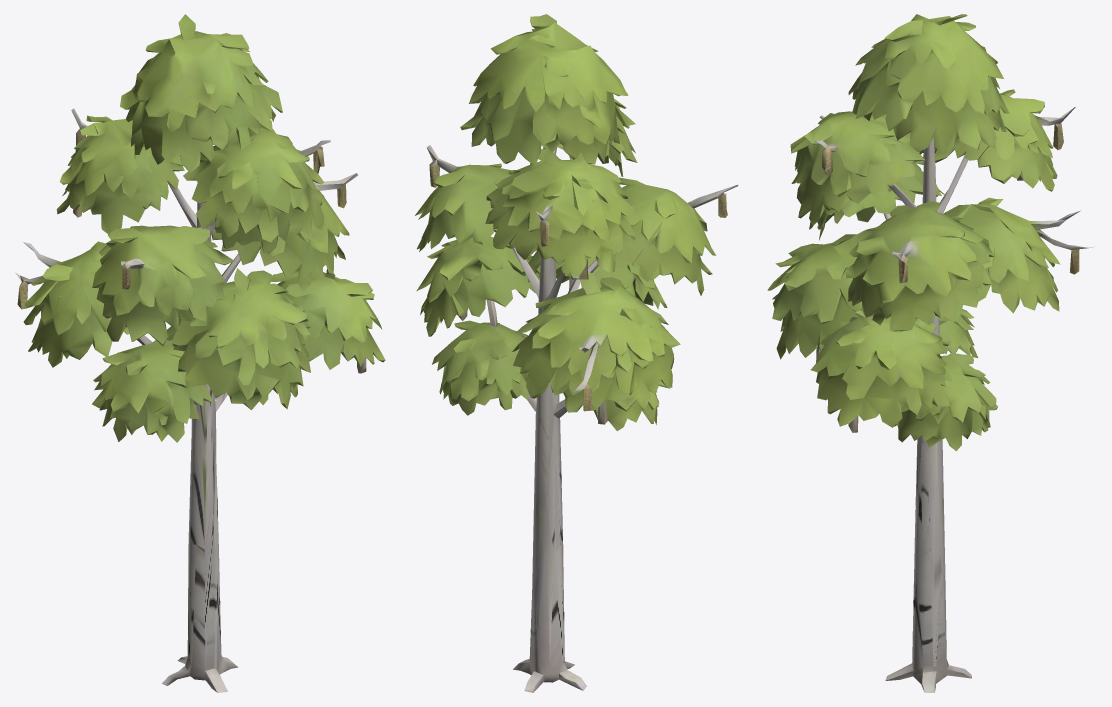
Rendered from tree_birch_idle.glb.
3 renders of one model, left to right at view 1: azimuth 30°, elevation 25°; view 2: azimuth 150°, elevation 25°; view 3: azimuth 270°, elevation 25°, orthographic. The views are drawn at different scales.
Parts seen in each view (by area): view 1: tripo_node_c93388d4-ff19-49a7-a965-24c735a617d3; view 2: tripo_node_c93388d4-ff19-49a7-a965-24c735a617d3; view 3: tripo_node_c93388d4-ff19-49a7-a965-24c735a617d3.
Boxes of the visible parts, left/top/right/bottom form: tripo_node_c93388d4-ff19-49a7-a965-24c735a617d3: left=15, top=14, right=385, bottom=692; tripo_node_c93388d4-ff19-49a7-a965-24c735a617d3: left=415, top=14, right=738, bottom=692; tripo_node_c93388d4-ff19-49a7-a965-24c735a617d3: left=767, top=14, right=1094, bottom=692.
Size of the model in its own units: 2.71 by 5.99 by 2.7.
Materials: 1 (1 with a texture image).
